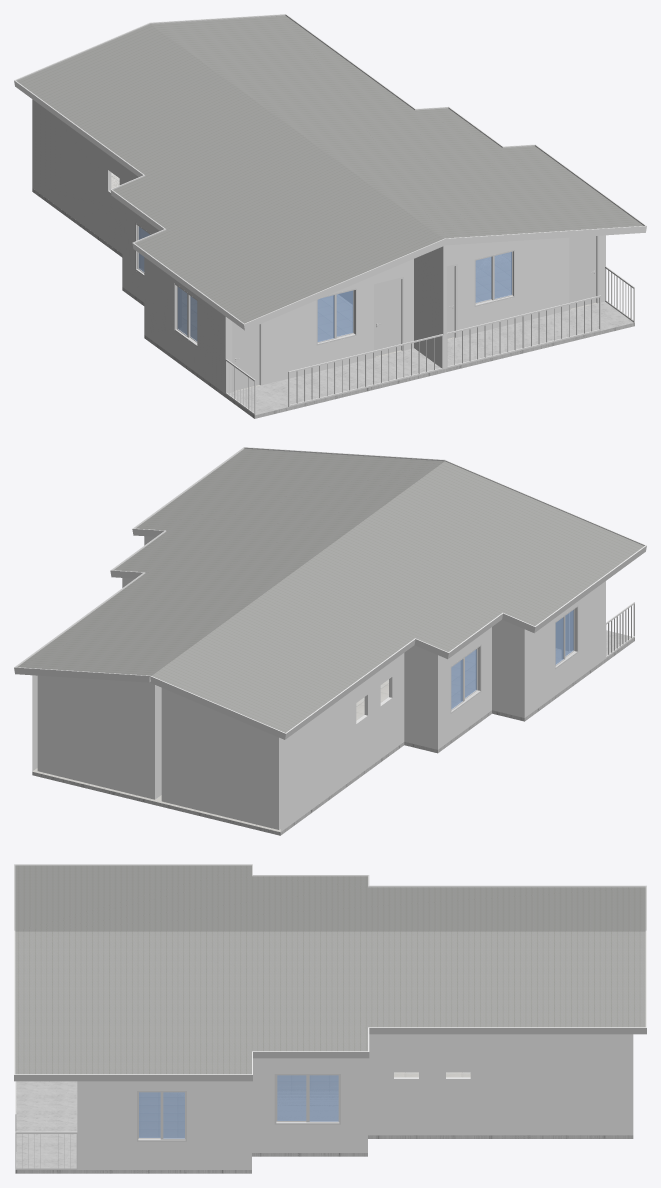
The model's file is house_6.glb.
3 renders of one model, top to bottom at view 1: azimuth 30°, elevation 25°; view 2: azimuth 150°, elevation 25°; view 3: azimuth 270°, elevation 25°, orthographic. The views are drawn at different scales.
Visible parts, largest first — view 1: house_6; view 2: house_6; view 3: house_6.
Boxes of the visible parts, box(x1,y1,x2,y2) form: house_6: box(14, 14, 646, 418); house_6: box(14, 447, 646, 835); house_6: box(14, 864, 646, 1173).
Bounding box in the file's own units: 12.01 × 3.82 × 15.25.
Materials: 8 (3 with a texture image).
